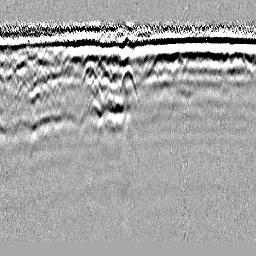cavity: (119, 62, 138, 99)
